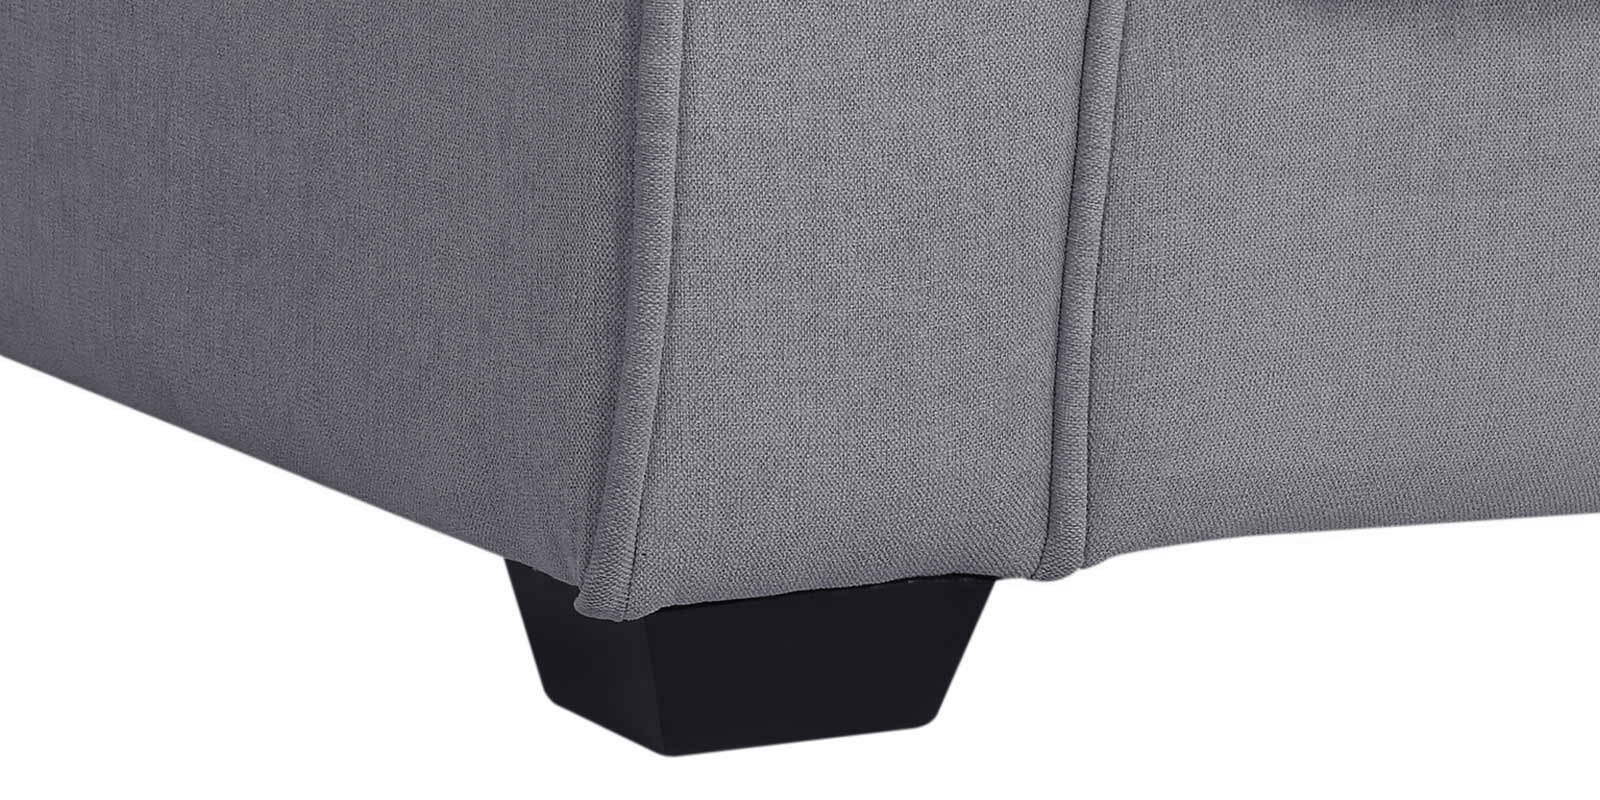Hugo Three Seater Sofa in Ash Grey Colour by CasaCraft: (1, 1, 1599, 773)
